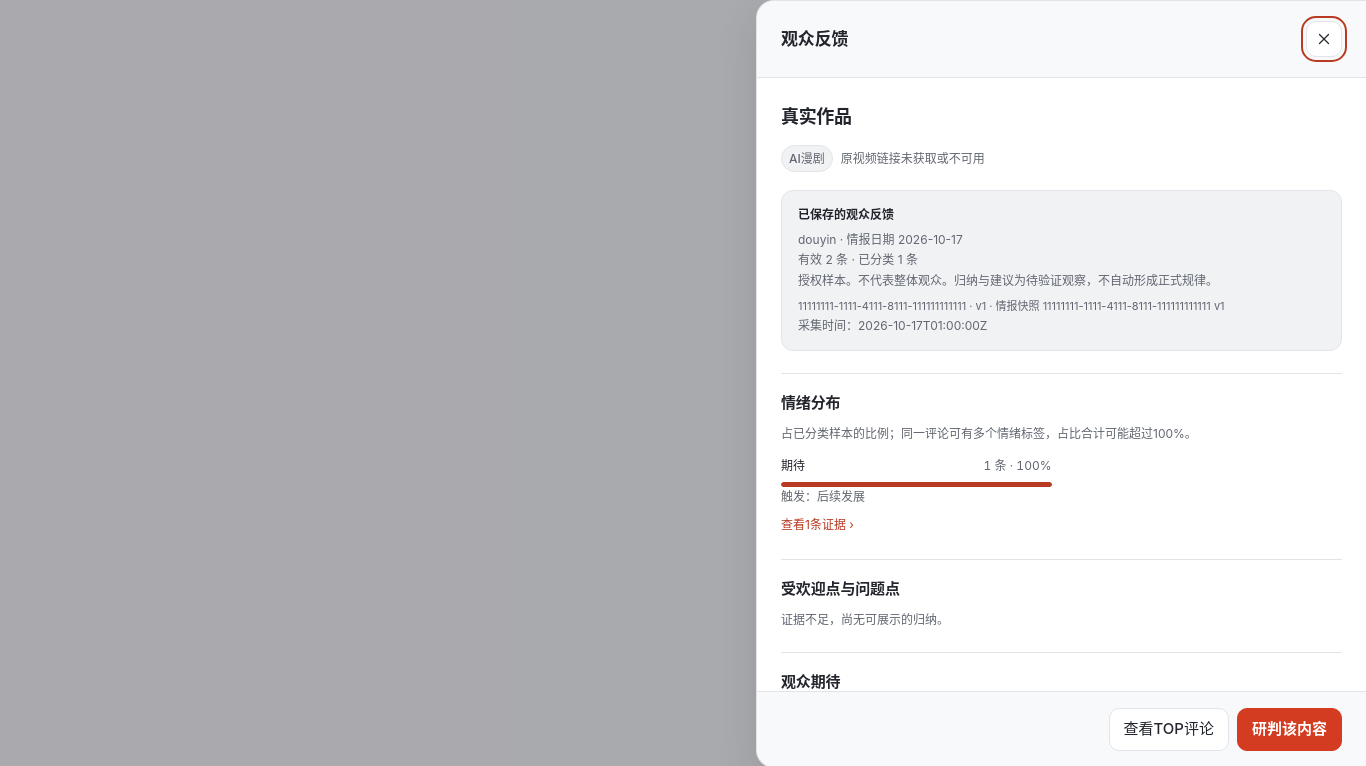
单作品情绪比例、证据高亮、原文转义，普通抽屉不显示关键反馈
The image size is (1366, 766).
Expected: the text "1 条 · 100%" is shown, 983,456 -> 1052,476
Click the button "查看1条证据 ›". click: (817, 525)
box: 781,513 -> 854,537
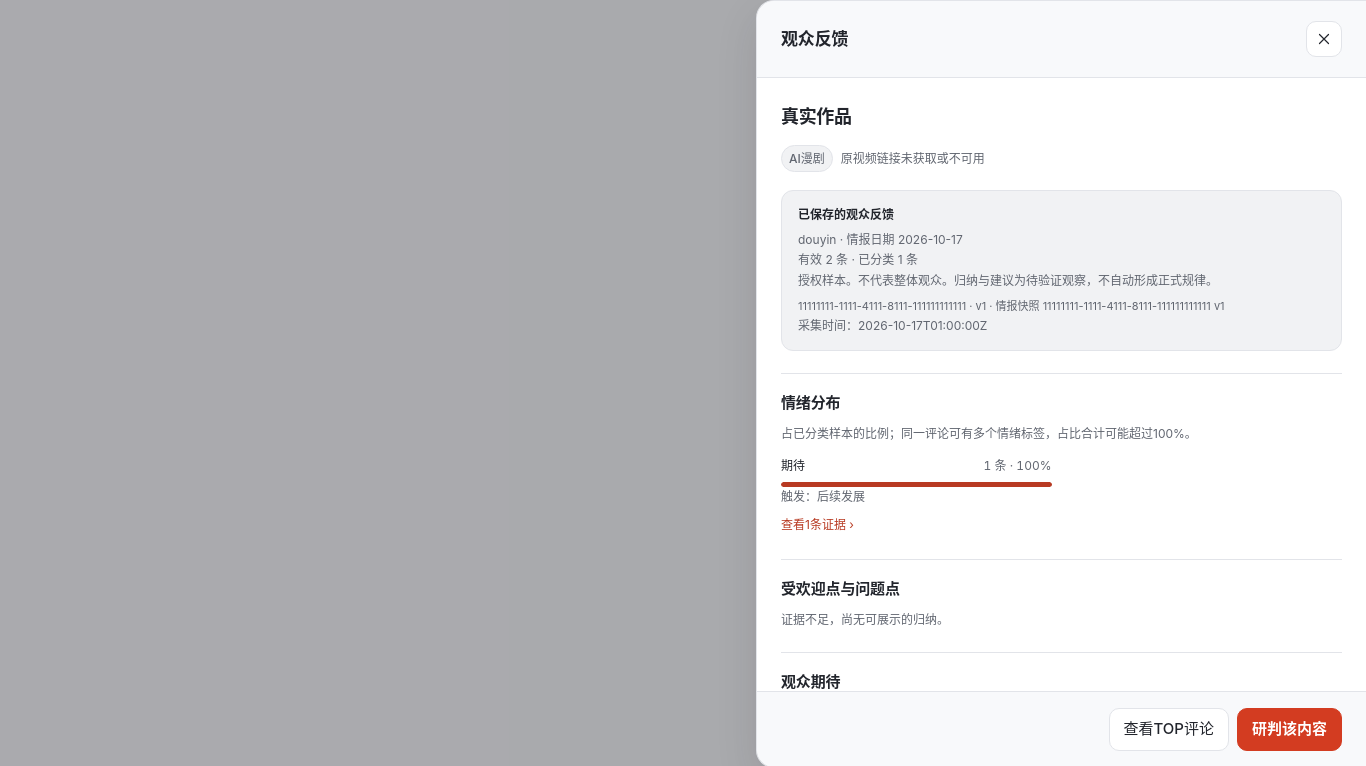
Click the button "研判该内容". click: (1290, 730)
box: 1237,708 -> 1342,751
(page scrolled)
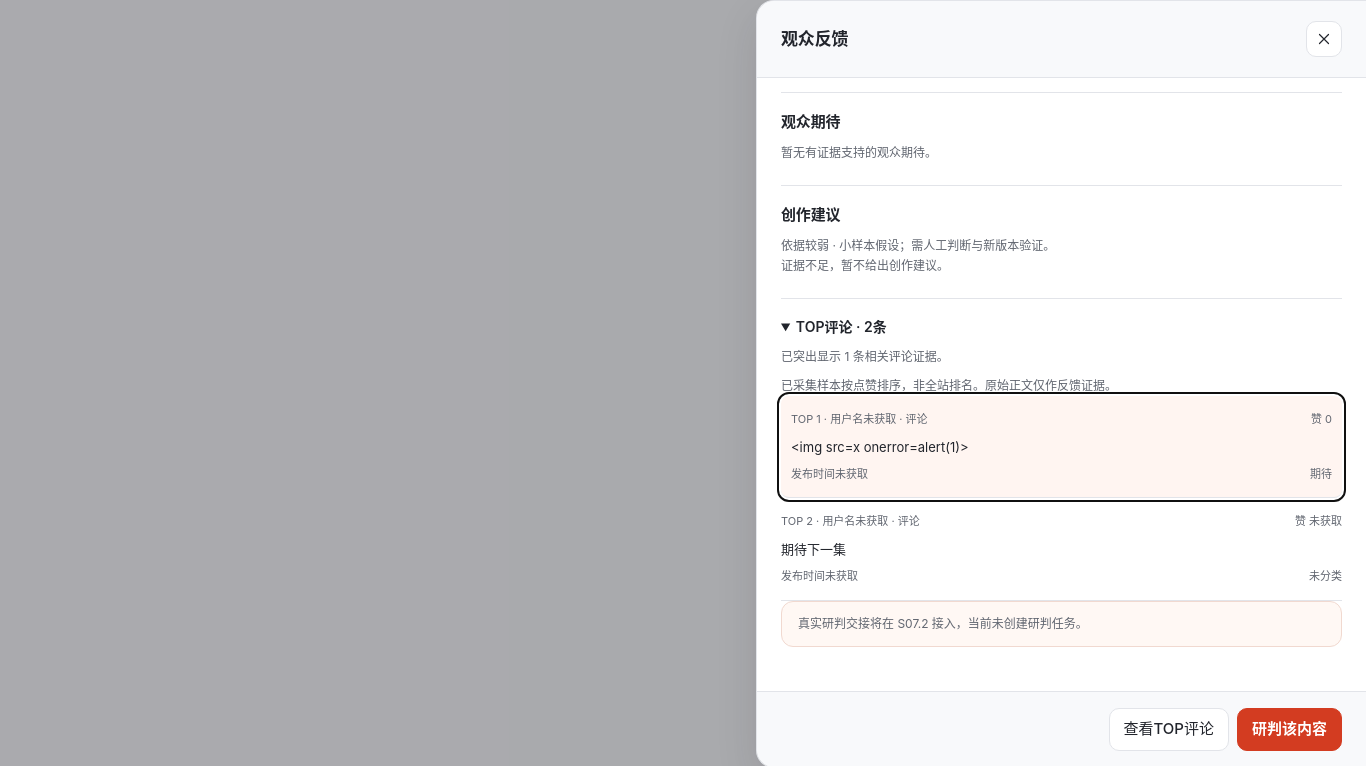
Expected: the text "真实研判交接将在 S07.2 接入，当前未创建研判任务。" is shown, 781,601 -> 1342,647
